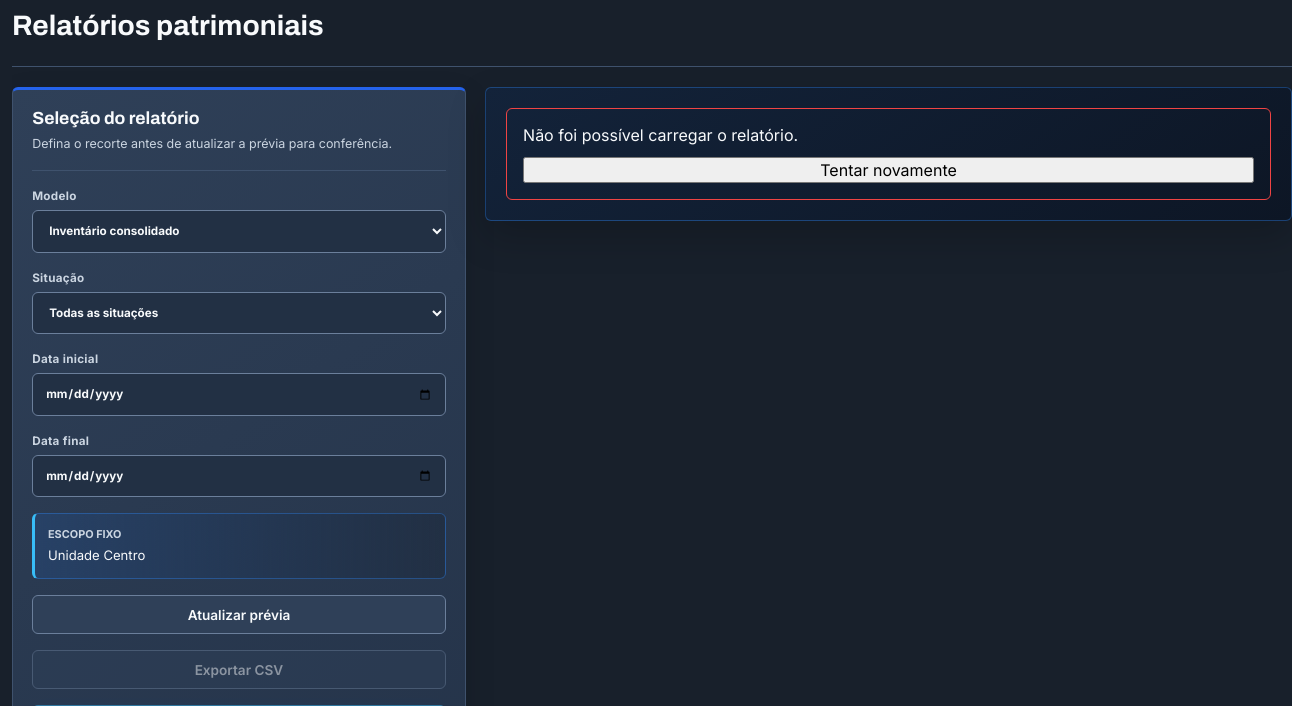
it: shows a retryable error without stale report data when the report request fails
The width and height of the screenshot is (1292, 706).
Expected: the message shows "Não foi possível carregar o relatório.", top-left (523, 125), bottom-right (798, 145)
Expected: the text "2 equipamentos" is not shown
What coordinates should you click on to do the following:
click the button "Tentar novamente"
I would click on:
 (889, 170)
Its box is top-left (523, 157), bottom-right (1254, 183).
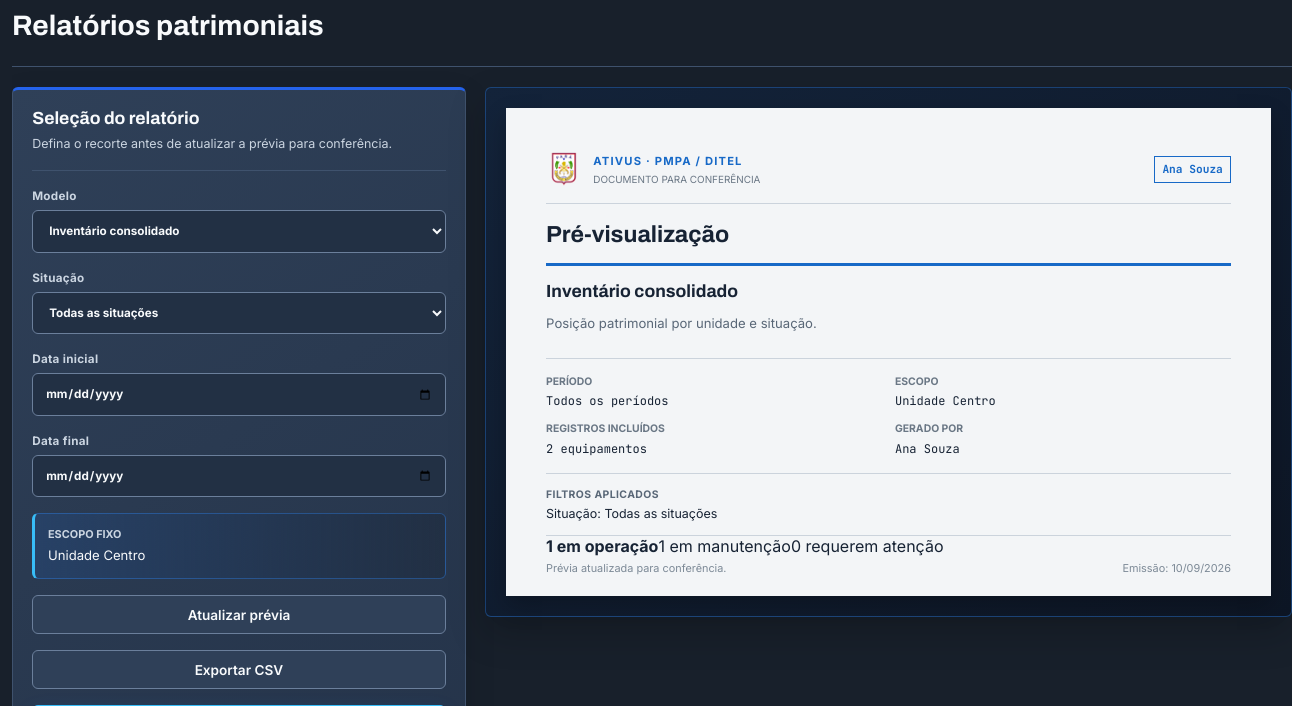
Expected: the text "2 equipamentos" is shown, top-left (546, 440), bottom-right (647, 456)
